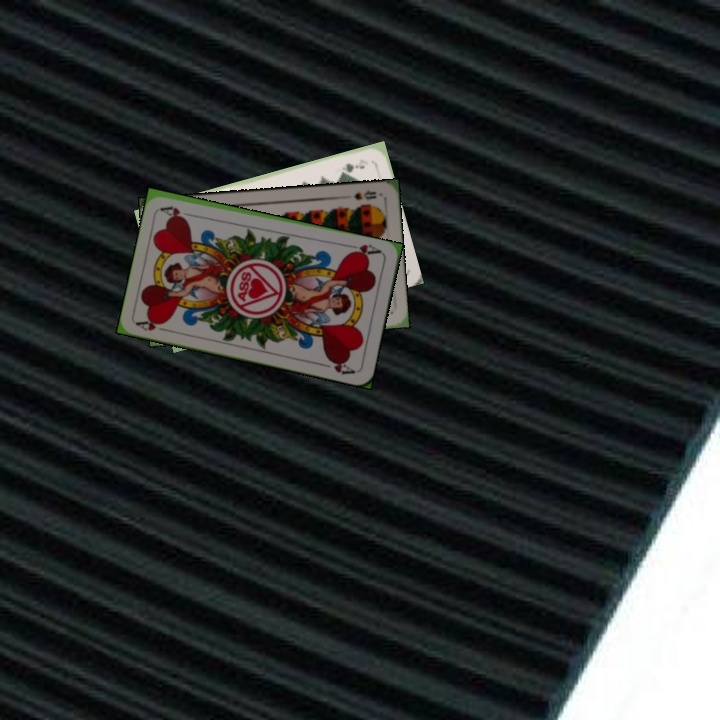G9: (337, 159, 367, 176)
HA: (344, 240, 384, 260), (133, 315, 174, 334)
S8: (350, 186, 379, 203)
